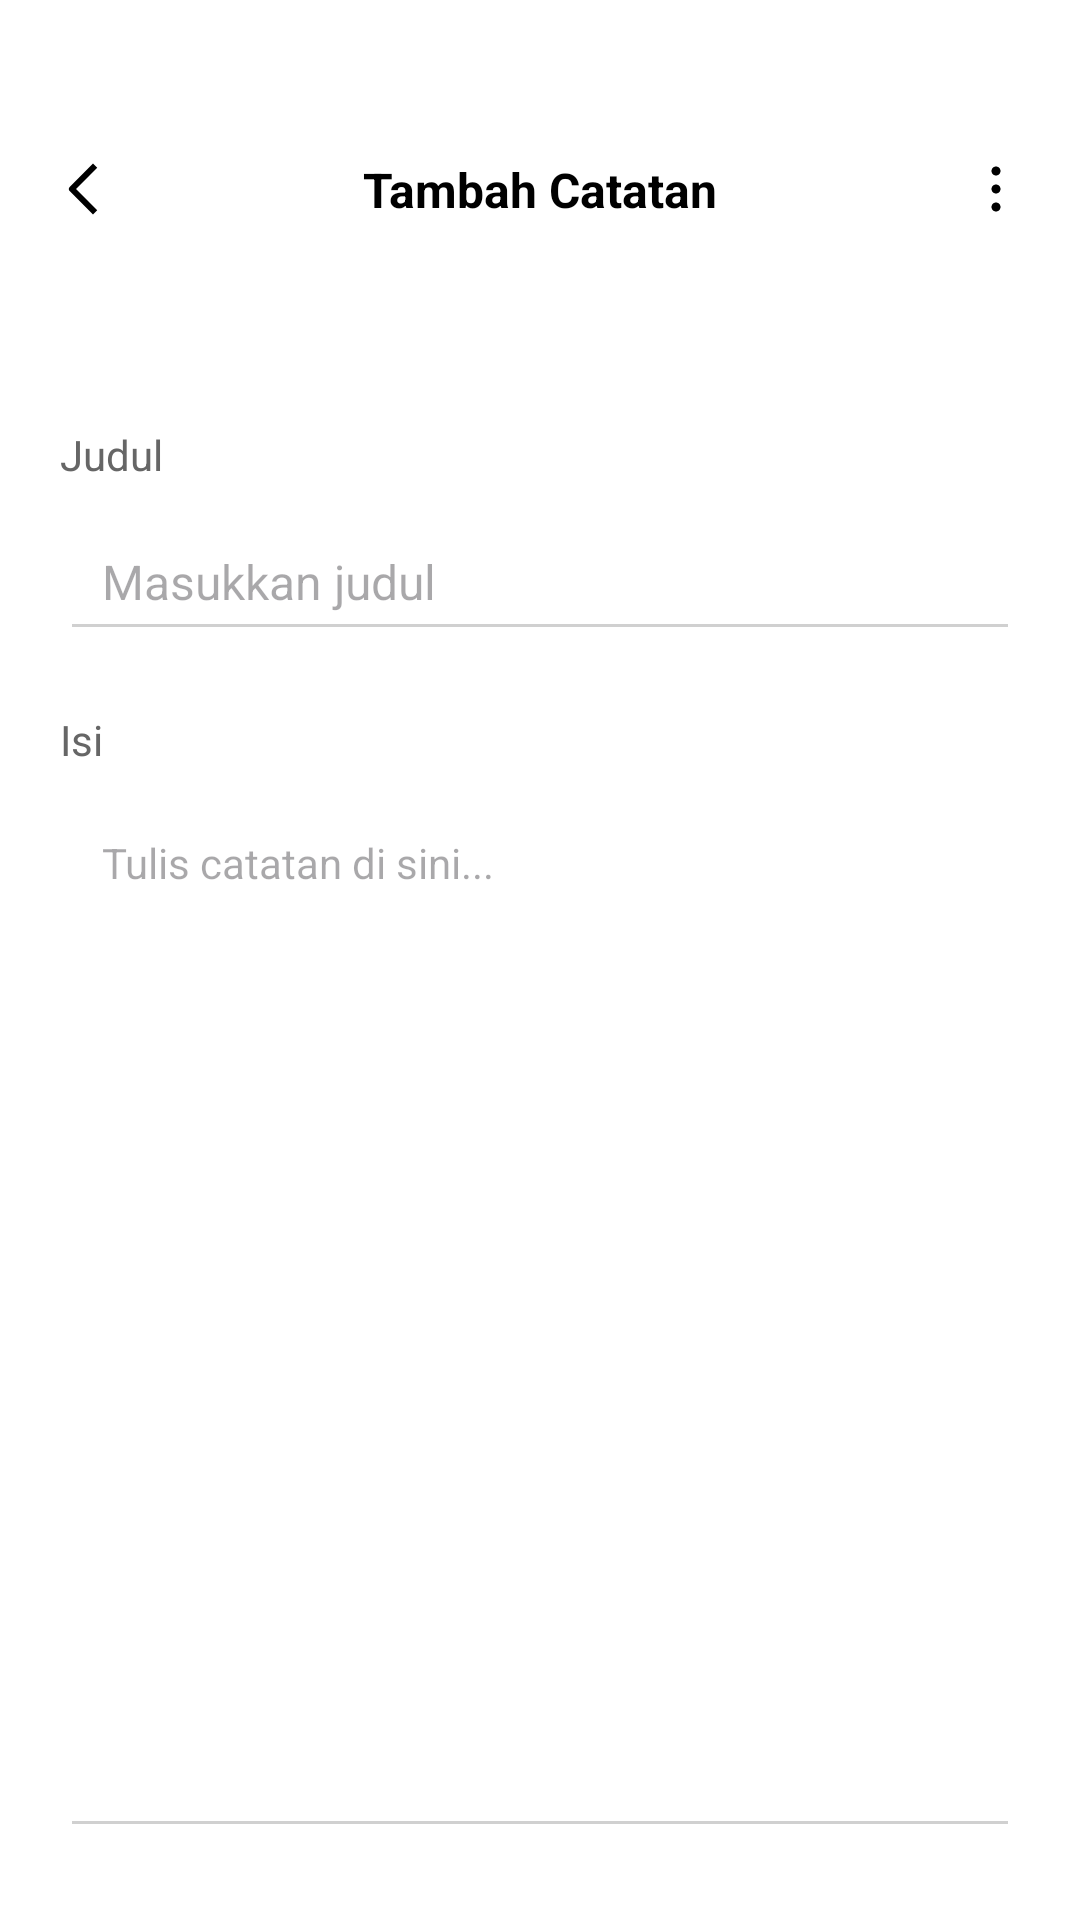

Screen size 1080x1920. Icon name, then its center in pixels as [x,y]:
Kembali: [82,189]
Lainnya: [996,189]
